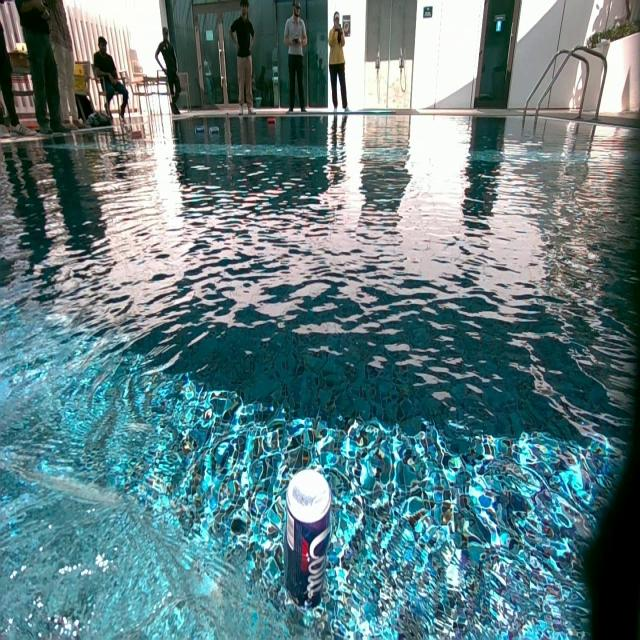Cans: (278, 468, 336, 616), (210, 128, 220, 136), (194, 127, 203, 135), (268, 118, 276, 126)
